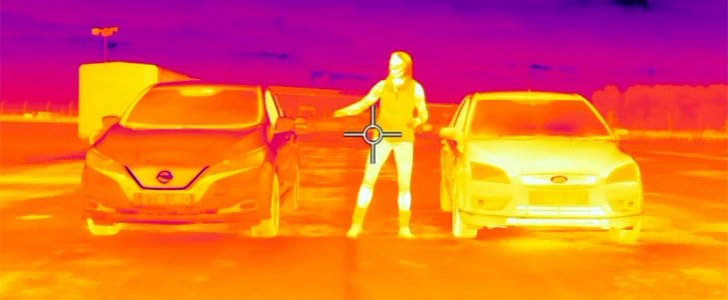car: (80, 74, 308, 247), (438, 86, 658, 252)
person: (325, 48, 430, 244)
truck: (66, 57, 212, 172)
